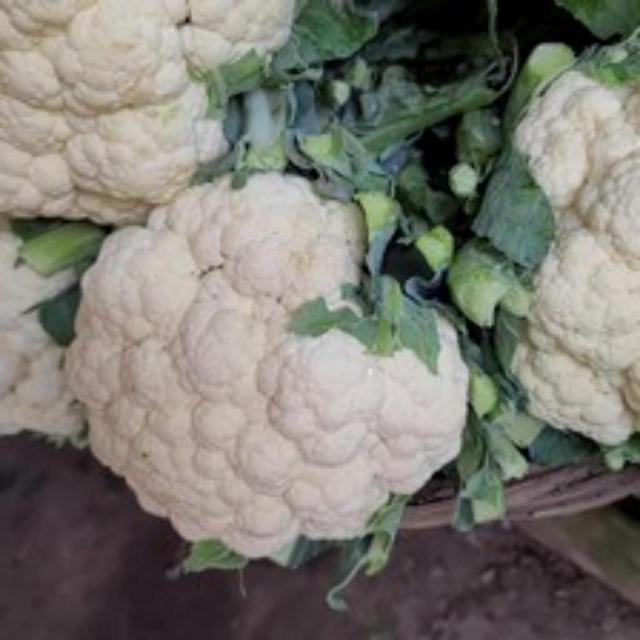cauliflower: (60, 171, 505, 589), (500, 60, 637, 454)
